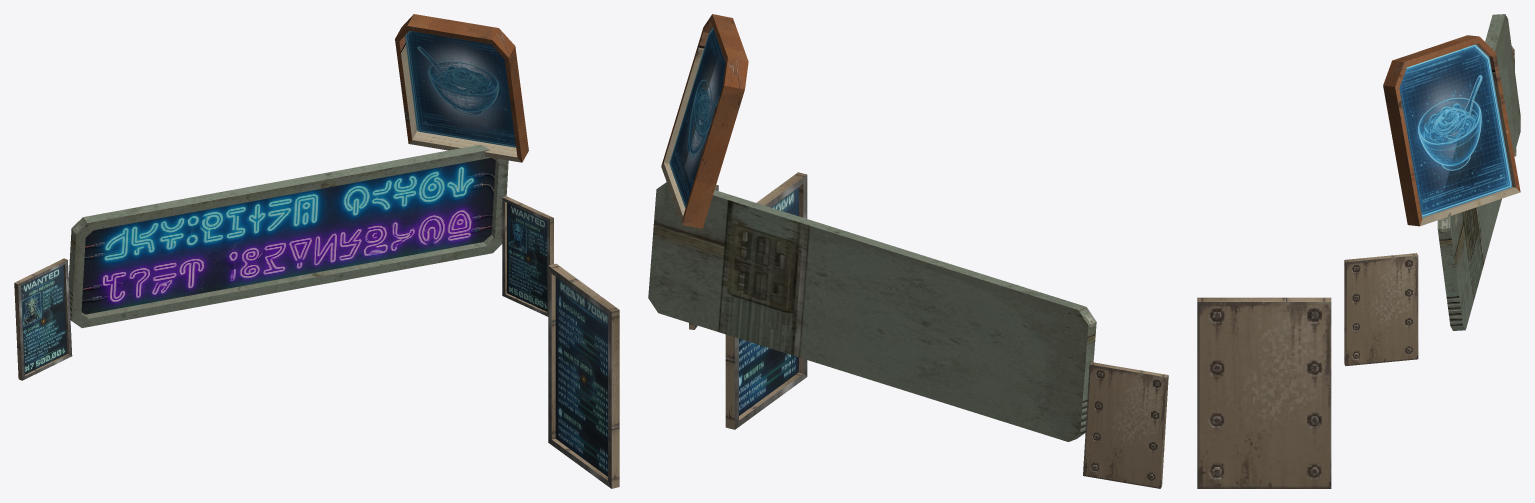
Rendered from BarSigns.glb.
3 renders of one model, left to right at view 1: azimuth 30°, elevation 25°; view 2: azimuth 150°, elevation 25°; view 3: azimuth 270°, elevation 25°, orthographic. The views are drawn at different scales.
Parts seen in each view (by area): view 1: Sign, Sign_2, Poster_1, Poster_3, Poster_2; view 2: Sign, Sign_2, Poster_3, Poster_1; view 3: Poster_1, Sign_2, Poster_2, Sign.
Boxes of the visible parts, bbox=[...] form: Sign: bbox=[68, 144, 508, 327]; Sign_2: bbox=[395, 14, 528, 162]; Poster_1: bbox=[548, 263, 619, 488]; Poster_3: bbox=[14, 258, 72, 380]; Poster_2: bbox=[502, 196, 553, 316]; Sign: bbox=[648, 181, 1096, 441]; Sign_2: bbox=[661, 14, 748, 228]; Poster_3: bbox=[1083, 362, 1168, 488]; Poster_1: bbox=[725, 172, 807, 429]; Poster_1: bbox=[1197, 297, 1331, 488]; Sign_2: bbox=[1383, 35, 1520, 226]; Poster_2: bbox=[1344, 253, 1418, 366]; Sign: bbox=[1437, 14, 1520, 330].
Bounding box in the file's own units: 5.48 × 4.29 × 3.03.
Materials: 4 (4 with a texture image).
